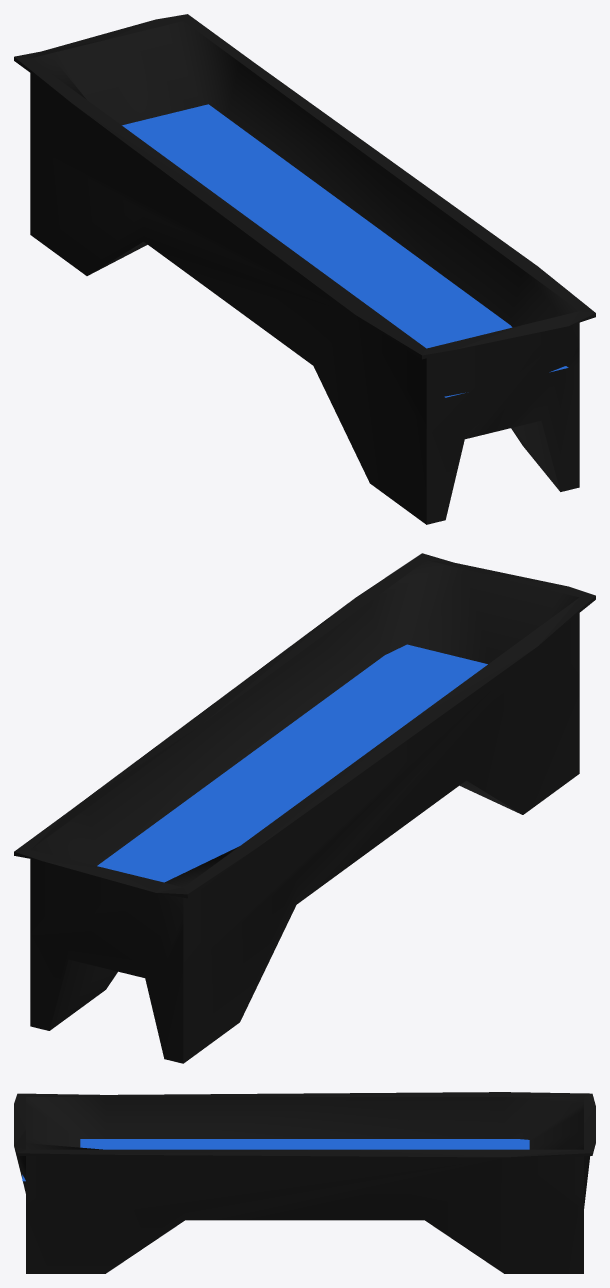
Rendered from Water Trough.FBX.
The picture shows the model from 3 angles, top to bottom: view 1: azimuth 30°, elevation 25°; view 2: azimuth 150°, elevation 25°; view 3: azimuth 270°, elevation 25°; orthographic projection. The views are drawn at different scales.
Parts seen in each view (by area): view 1: Box015, Plane001; view 2: Box015, Plane001; view 3: Box015, Plane001.
Boxes of the visible parts, x1,y1,x2,y2 form: Box015: (14,14,595,524); Plane001: (122,104,568,397); Box015: (14,553,595,1063); Plane001: (97,644,487,882); Box015: (14,1092,595,1273); Plane001: (22,1139,529,1181).
Bounding box in the file's own units: 25.27 × 23.37 × 99.11.
